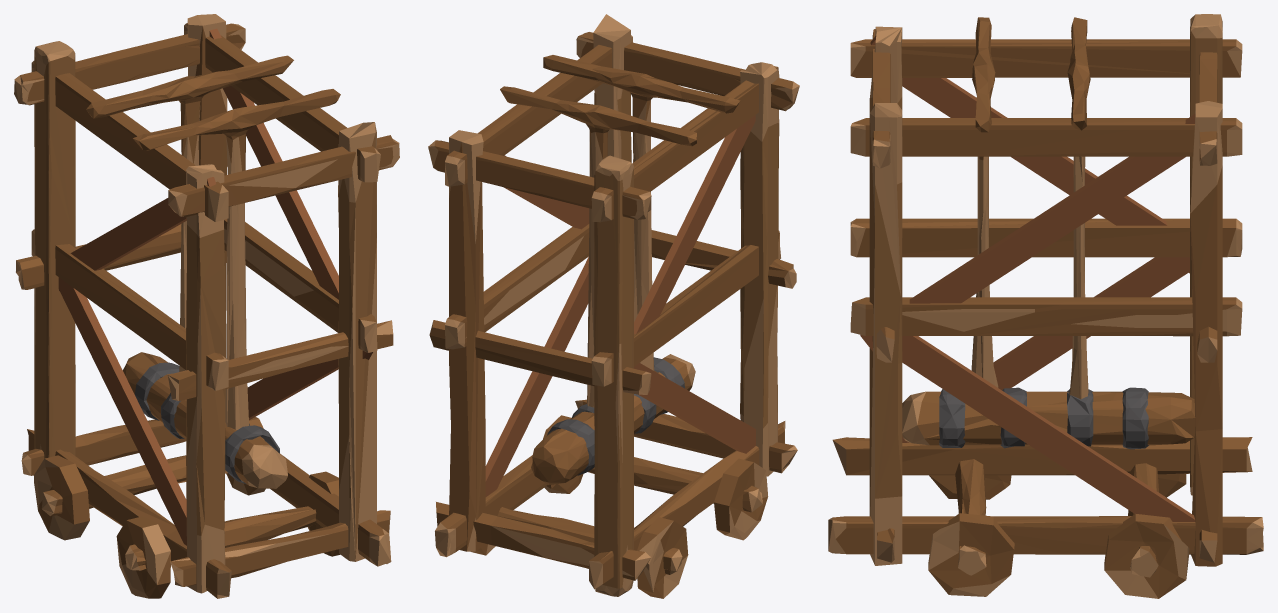
The model's file is LPSWP_Ram03.fbx.
The picture shows the model from 3 angles, left to right: view 1: azimuth 30°, elevation 25°; view 2: azimuth 150°, elevation 25°; view 3: azimuth 270°, elevation 25°; orthographic projection. The views are drawn at different scales.
Visible parts, largest first — view 1: LPSWP_Ram03, LPSWP_Ram03_Ram, LPSWP_Ram03_ForwardWheel, LPSWP_Ram03_BackwardWheel; view 2: LPSWP_Ram03, LPSWP_Ram03_Ram, LPSWP_Ram03_ForwardWheel, LPSWP_Ram03_BackwardWheel; view 3: LPSWP_Ram03, LPSWP_Ram03_Ram, LPSWP_Ram03_ForwardWheel, LPSWP_Ram03_BackwardWheel.
Boxes of the visible parts, x1,y1,x2,y2 form: LPSWP_Ram03: [14, 14, 399, 598]; LPSWP_Ram03_Ram: [86, 55, 340, 488]; LPSWP_Ram03_ForwardWheel: [116, 471, 339, 598]; LPSWP_Ram03_BackwardWheel: [34, 417, 265, 540]; LPSWP_Ram03: [428, 14, 799, 596]; LPSWP_Ram03_Ram: [500, 55, 740, 484]; LPSWP_Ram03_ForwardWheel: [543, 415, 768, 540]; LPSWP_Ram03_BackwardWheel: [471, 507, 688, 598]; LPSWP_Ram03: [828, 14, 1263, 566]; LPSWP_Ram03_Ram: [902, 17, 1195, 449]; LPSWP_Ram03_ForwardWheel: [928, 459, 1014, 596]; LPSWP_Ram03_BackwardWheel: [1104, 463, 1189, 598].
Bounding box in the file's own units: 2.98 × 5.8 × 4.66.
